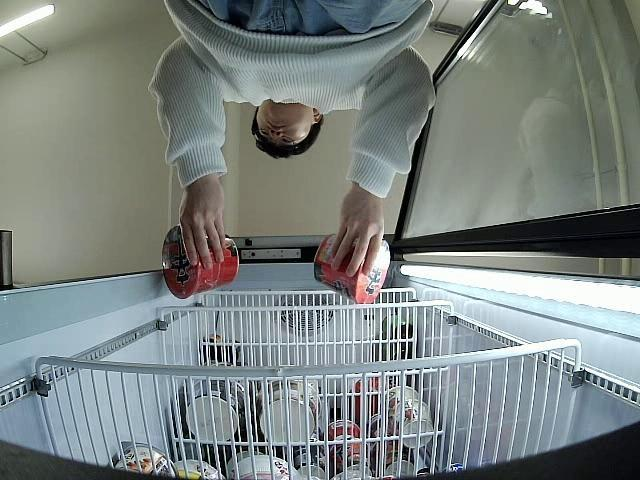01_ShinRamen_L: (160, 223, 239, 300), (313, 231, 391, 306)
